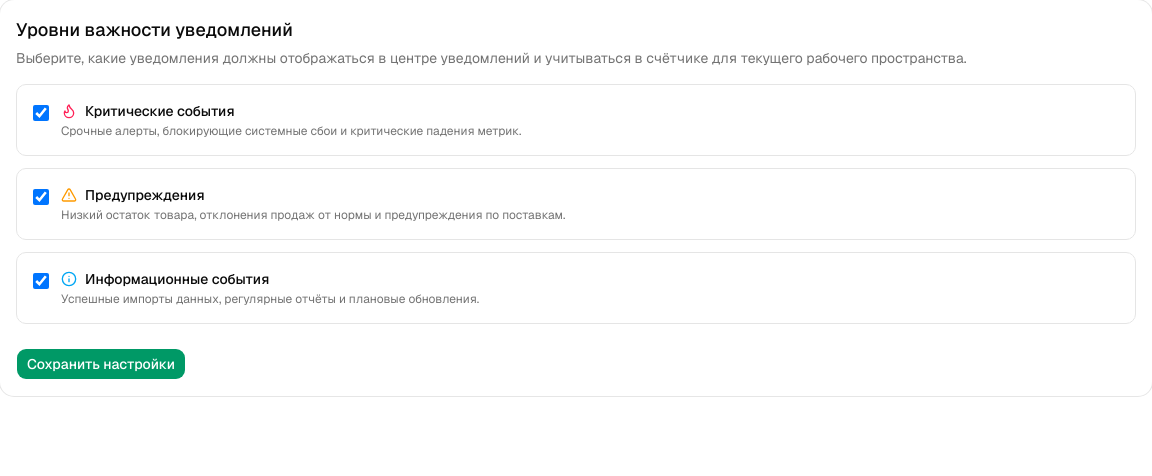
it: NotificationPreferencesForm › renders preferences checkboxes and updates preference
expect the text "Критические события" is shown: met, box [85,101,235,121]
expect the text "Информационные события" is shown: met, box [85,269,269,289]
Click the checkbox labelled "Информационные события" at (41, 281), box [33,273,49,289]
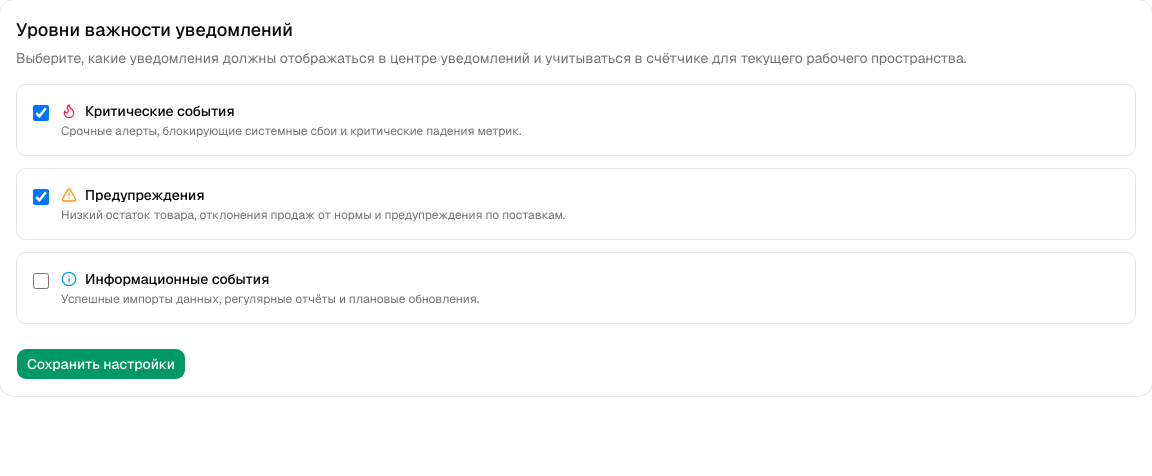
expect the checkbox labelled "Информационные события" is not checked: met, box [33,273,49,289]
Click the button "Сохранить настройки" at (101, 364), box [16,348,186,380]
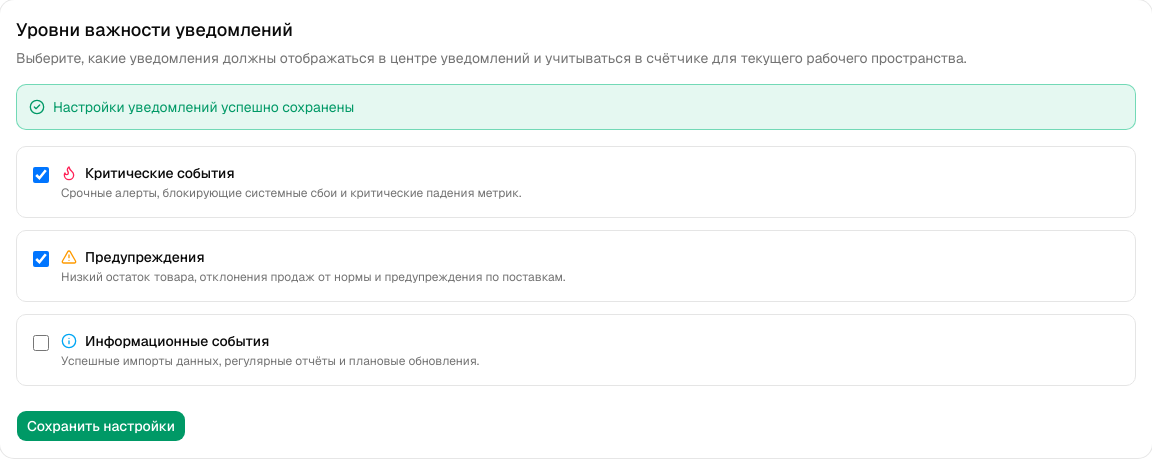
expect the message shows "успешно сохранены": met, box [53,98,354,116]
